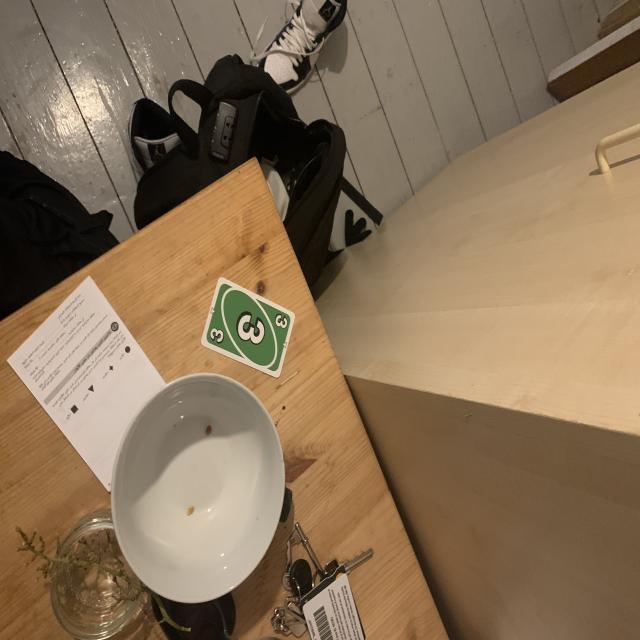lgreen-3: (208, 324, 228, 347)
